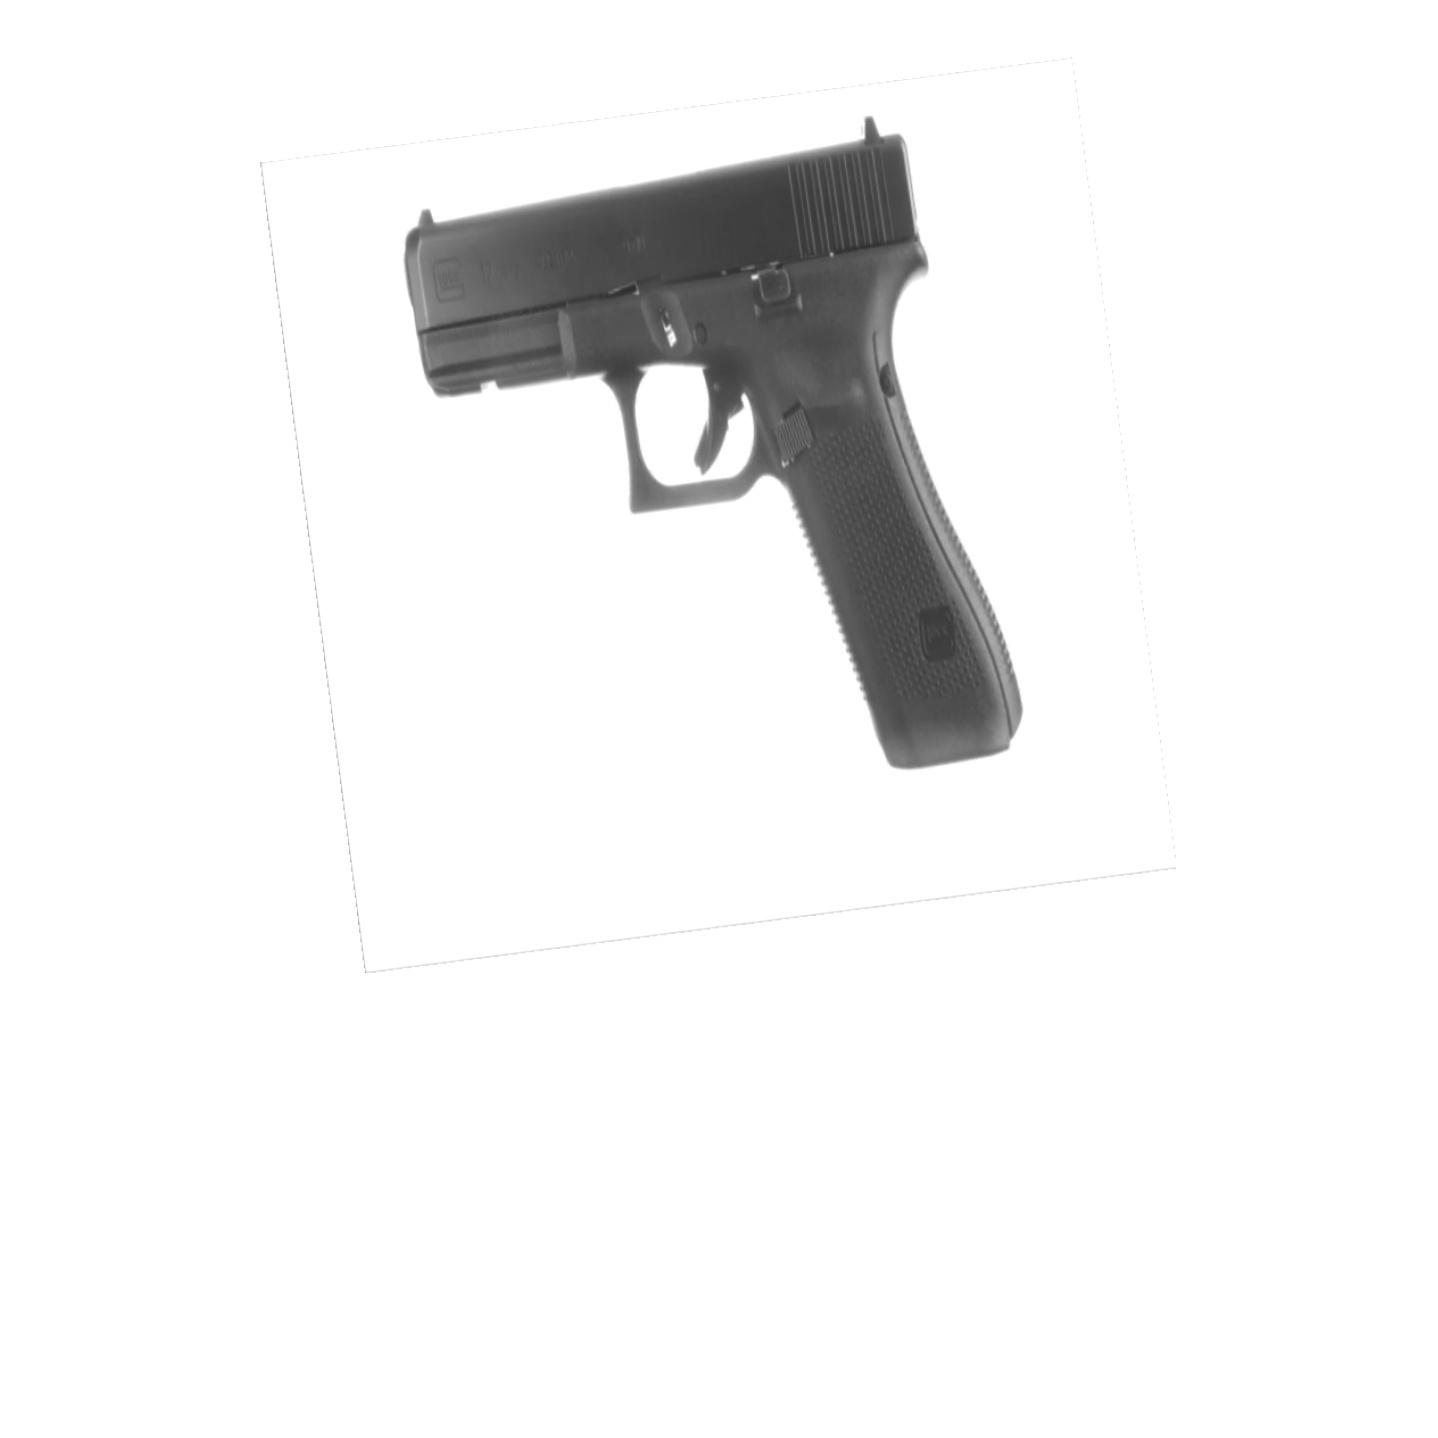gun: (396, 112, 1034, 784)
